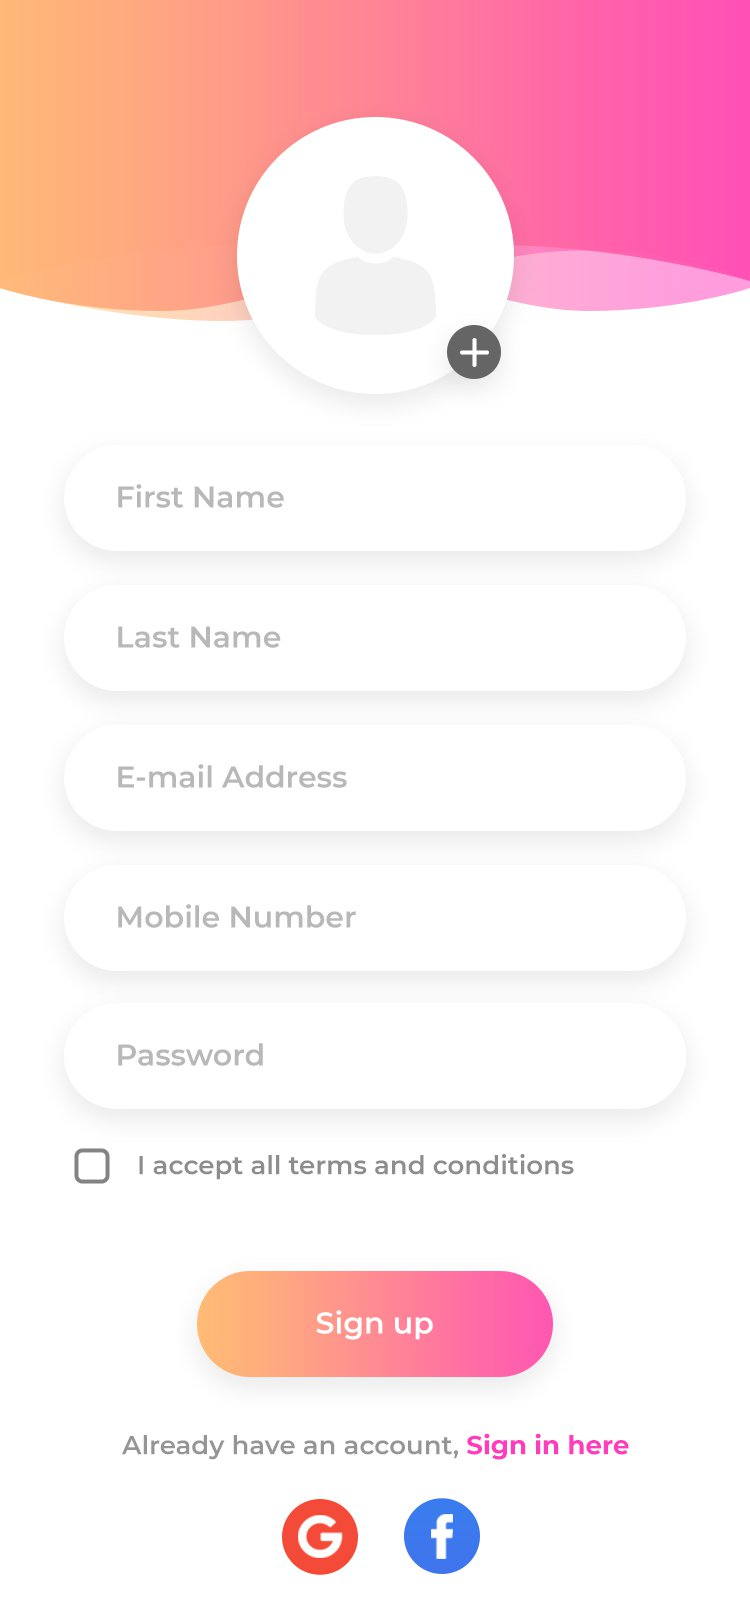CheckedTextView: (74, 1147, 575, 1185)
EditText: (63, 724, 688, 833), (64, 1002, 688, 1110), (64, 585, 687, 693), (64, 865, 687, 973), (64, 446, 687, 552)
Icon: (237, 117, 515, 396), (282, 1498, 359, 1576), (404, 1498, 481, 1575), (448, 325, 502, 381)
Text: (122, 1432, 630, 1461), (139, 1154, 575, 1180), (118, 764, 348, 789), (118, 905, 357, 929), (118, 484, 284, 509), (119, 626, 281, 649), (118, 1042, 264, 1067)
TextButton: (197, 1271, 554, 1378)
